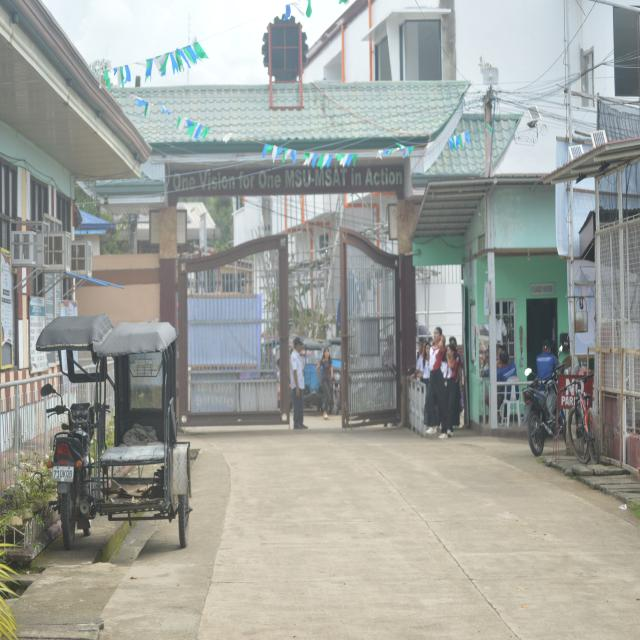person: (426, 328, 447, 436), (290, 337, 307, 429), (317, 348, 333, 419), (537, 340, 558, 380)
